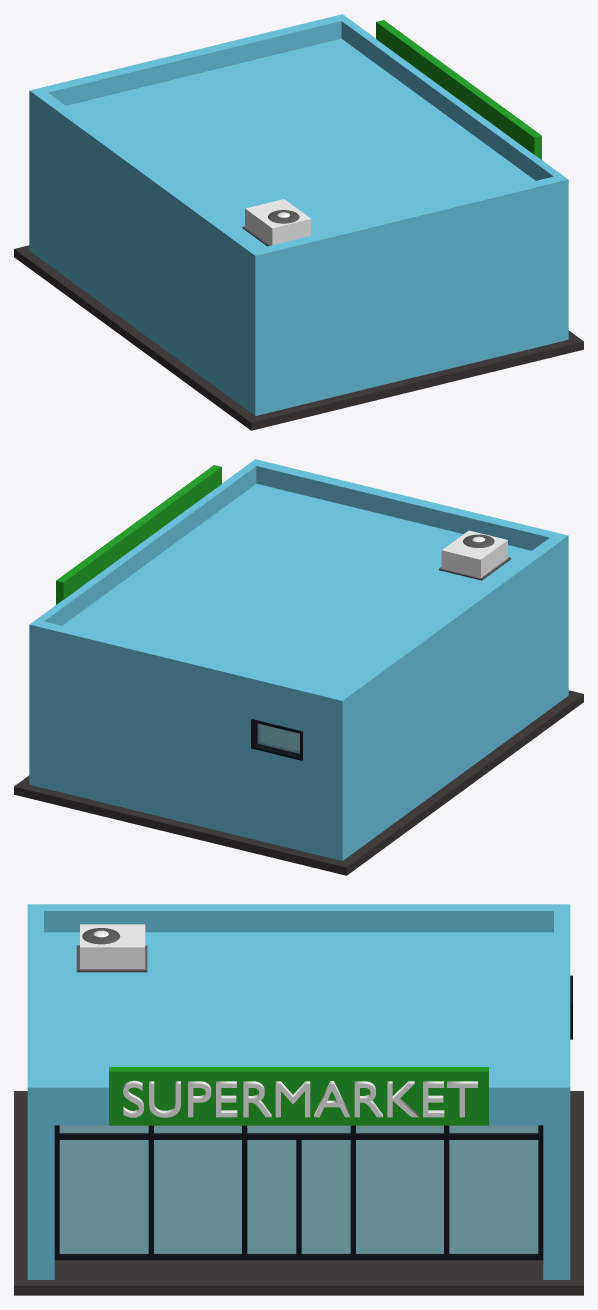
The model's file is supermarket2.glb.
The picture shows the model from 3 angles, top to bottom: view 1: azimuth 30°, elevation 25°; view 2: azimuth 150°, elevation 25°; view 3: azimuth 270°, elevation 25°; orthographic projection. The views are drawn at different scales.
Parts seen in each view (by area): view 1: Steni, Cokol, object 6, object 9; view 2: Steni, Cokol, object 6, object 9, Okno.001, object 7; view 3: Steni, Okno, Cokol, object 6, Rama, SUPERMARKET, object 9.
Boxes of the visible parts, left/top/right/bottom form: Steni: left=29, top=14, right=568, bottom=415; Cokol: left=14, top=245, right=583, bottom=430; object 6: left=376, top=20, right=541, bottom=159; object 9: left=245, top=199, right=311, bottom=245; Steni: left=29, top=459, right=568, bottom=860; Cokol: left=14, top=690, right=583, bottom=875; object 6: left=56, top=465, right=221, bottom=604; object 9: left=441, top=530, right=507, bottom=578; Okno.001: left=257, top=723, right=299, bottom=753; object 7: left=251, top=719, right=302, bottom=760; Steni: left=27, top=904, right=570, bottom=1279; Okno: left=59, top=1125, right=538, bottom=1253; Cokol: left=14, top=1091, right=583, bottom=1295; object 6: left=109, top=1067, right=488, bottom=1125; Rama: left=54, top=1125, right=543, bottom=1260; SUPERMARKET: left=123, top=1080, right=477, bottom=1117; object 9: left=80, top=924, right=145, bottom=969.
Bounding box in the file's own units: 6.69 × 3.54 × 8.21.
